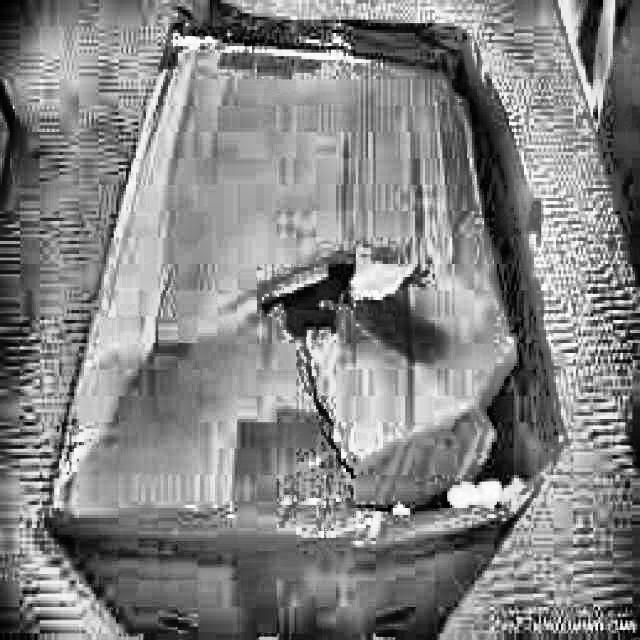box: (22, 8, 592, 639)
hole: (430, 35, 561, 518), (253, 229, 385, 351)
